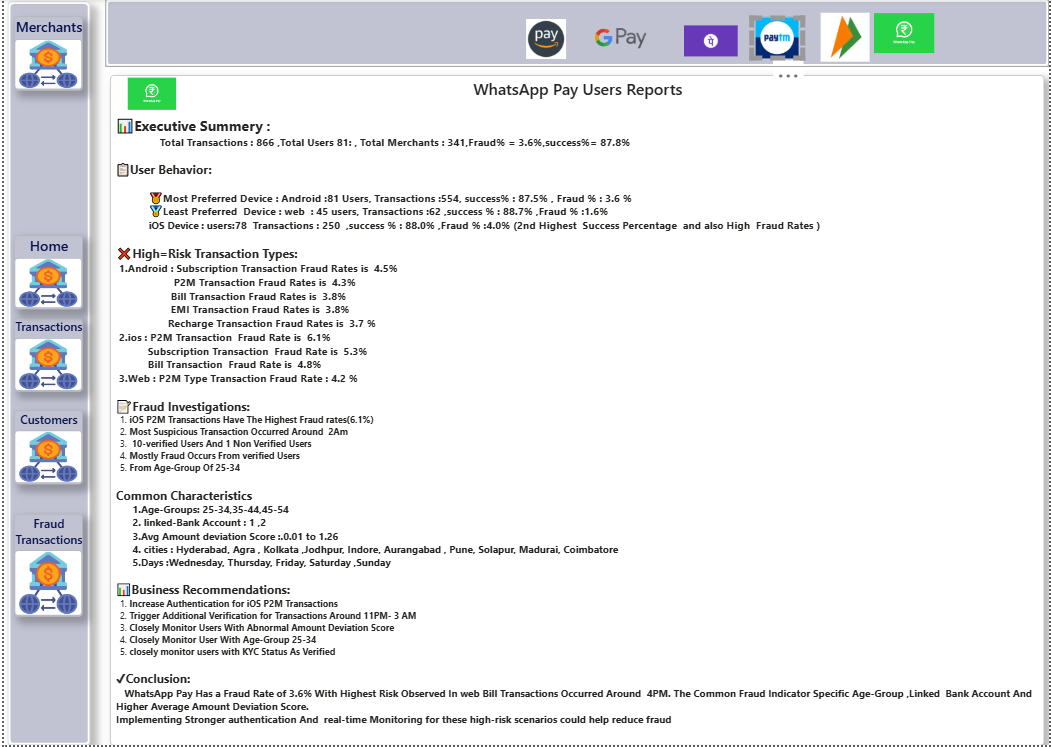

The page's visual inventory and layout, read from the dashboard file:
{"tool":"powerbi","page":{"name":"Reports","canvas":[1400,1000],"ordinal":4},"visuals":[{"type":"shape","title":"Sidebar ","box":[135.7,0,1265.1,90.5],"z":0,"group":"g2"},{"type":"image","title":"Merchants","box":[13.4,23.5,92.2,98.9],"z":0,"group":"g3"},{"type":"textbox","title":"WhatsApp Pay Users  Reports","box":[142.4,102.2,1251.7,898.1],"z":0,"group":"g1"},{"type":"shape","title":"Sidebar ","box":[5,3.4,110.6,997],"z":1000},{"type":"image","title":"Amazon pay","box":[785.8,18.4,82.1,68.7],"z":1000,"group":"g2"},{"type":"image","box":[166,102.4,64.8,49.5],"z":1000,"group":"g1"},{"type":"image","title":"Transactions","box":[13.4,427.3,92.2,98.9],"z":1000,"group":"g3"},{"type":"image","title":"Amazon pay","box":[1166.2,11.7,80.4,68.7],"z":2000,"group":"g2"},{"type":"image","title":"Home","box":[13.4,316.7,92.2,98.9],"z":2000,"group":"g3"},{"type":"image","title":"Amazon pay","box":[1089.1,18.4,77.1,65.3],"z":3000,"group":"g2"},{"type":"image","title":"Customers","box":[13.4,551.3,92.2,98.9],"z":3000,"group":"g3"},{"type":"image","title":"Amazon pay","box":[1000.3,23.5,72.1,57],"z":4000,"group":"g2"},{"type":"image","title":"Fraud Transactions","box":[13.4,690.4,92.2,137.4],"z":4000,"group":"g3"},{"type":"image","title":"Amazon pay","box":[911.5,21.8,72.1,68.7],"z":5000,"group":"g2"},{"type":"image","title":"Amazon pay","box":[688.7,26.8,75.4,53.6],"z":6000,"group":"g2"},{"type":"group","id":"g1","title":"WhatsAppPay","box":[142.4,102.2,1251.7,898.1],"z":6000},{"type":"group","id":"g2","title":"Group 1","box":[135.7,0,1265.1,90.5],"z":7000},{"type":"group","id":"g3","title":"Group 2","box":[13.4,23.5,92.2,804.3],"z":8000}]}

Visuals, with their boxes on the page's 1400x1000 design canvas (x1, y1, x2, y2). These are canvas units, not pixel positions in the 1052x747 screenshot, which may show the page scaled, cropped or inside an application window:
"Sidebar " shape: <bbox>136, 0, 1401, 90</bbox>
"Merchants" image: <bbox>13, 24, 106, 122</bbox>
"WhatsApp Pay Users  Reports" textbox: <bbox>142, 102, 1394, 1000</bbox>
"Sidebar " shape: <bbox>5, 3, 116, 1000</bbox>
"Amazon pay" image: <bbox>786, 18, 868, 87</bbox>
image: <bbox>166, 102, 231, 152</bbox>
"Transactions" image: <bbox>13, 427, 106, 526</bbox>
"Amazon pay" image: <bbox>1166, 12, 1247, 80</bbox>
"Home" image: <bbox>13, 317, 106, 416</bbox>
"Amazon pay" image: <bbox>1089, 18, 1166, 84</bbox>
"Customers" image: <bbox>13, 551, 106, 650</bbox>
"Amazon pay" image: <bbox>1000, 24, 1072, 80</bbox>
"Fraud Transactions" image: <bbox>13, 690, 106, 828</bbox>
"Amazon pay" image: <bbox>912, 22, 984, 90</bbox>
"Amazon pay" image: <bbox>689, 27, 764, 80</bbox>
"WhatsAppPay" group: <bbox>142, 102, 1394, 1000</bbox>
"Group 1" group: <bbox>136, 0, 1401, 90</bbox>
"Group 2" group: <bbox>13, 24, 106, 828</bbox>
